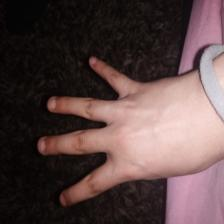four: (38, 48, 189, 203)
